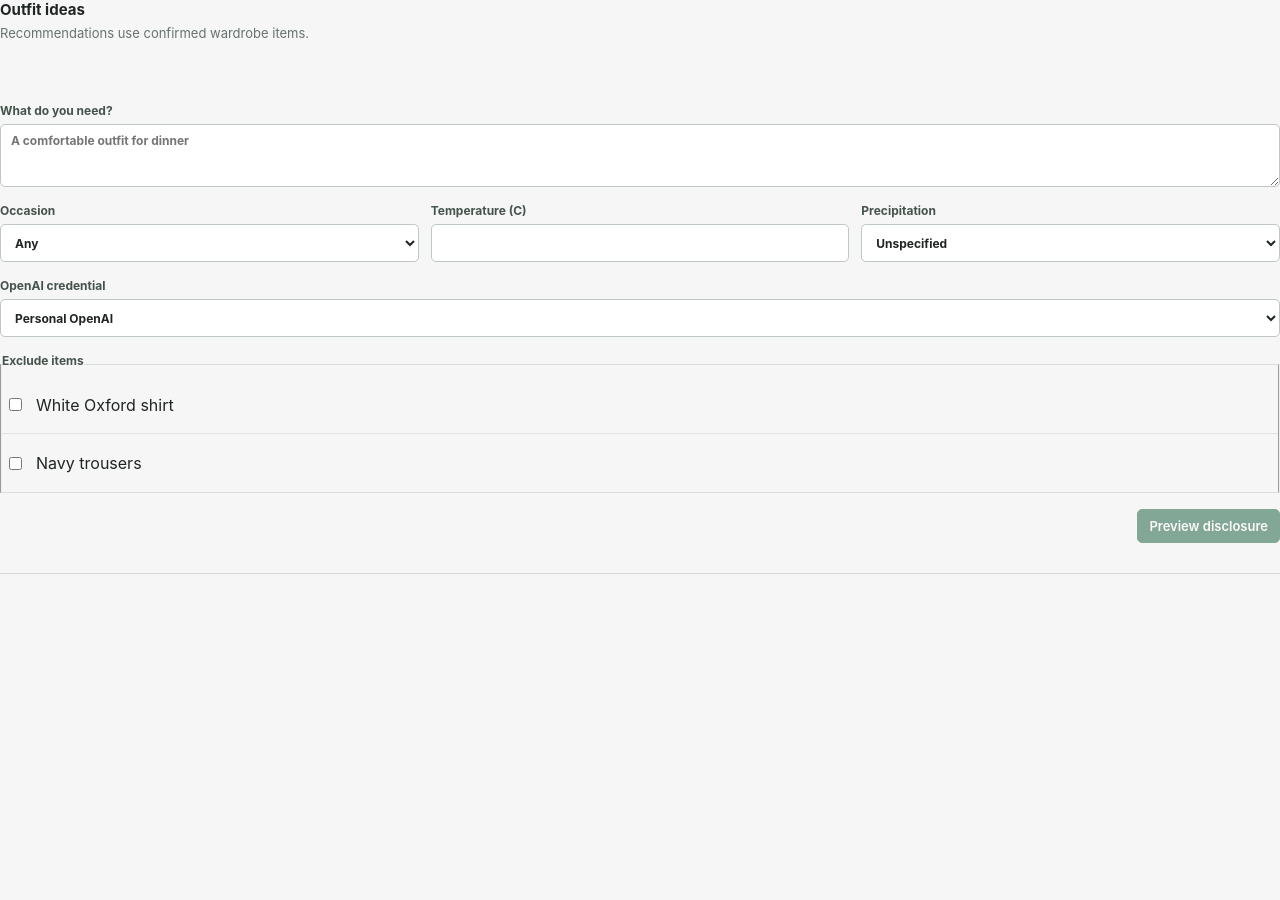
Test: outfit recommendation panel › dismisses a disclosure without sending
The width and height of the screenshot is (1280, 900).
Type "Travel day" into the text box labelled "What do you need?" at (640, 156), box [0,124,1279,187]
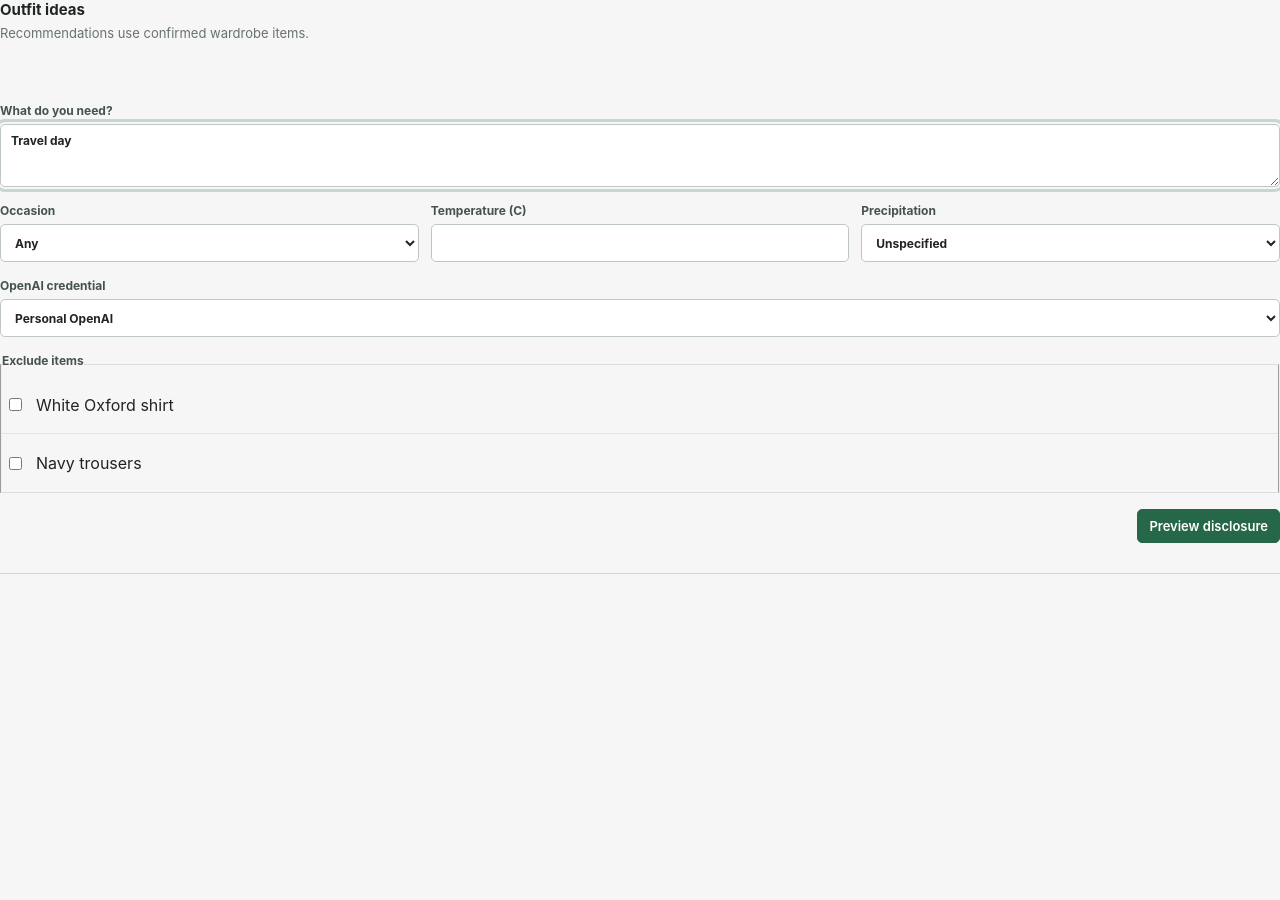
Click the button "Preview disclosure" at (1209, 526), box [1137,509,1279,543]
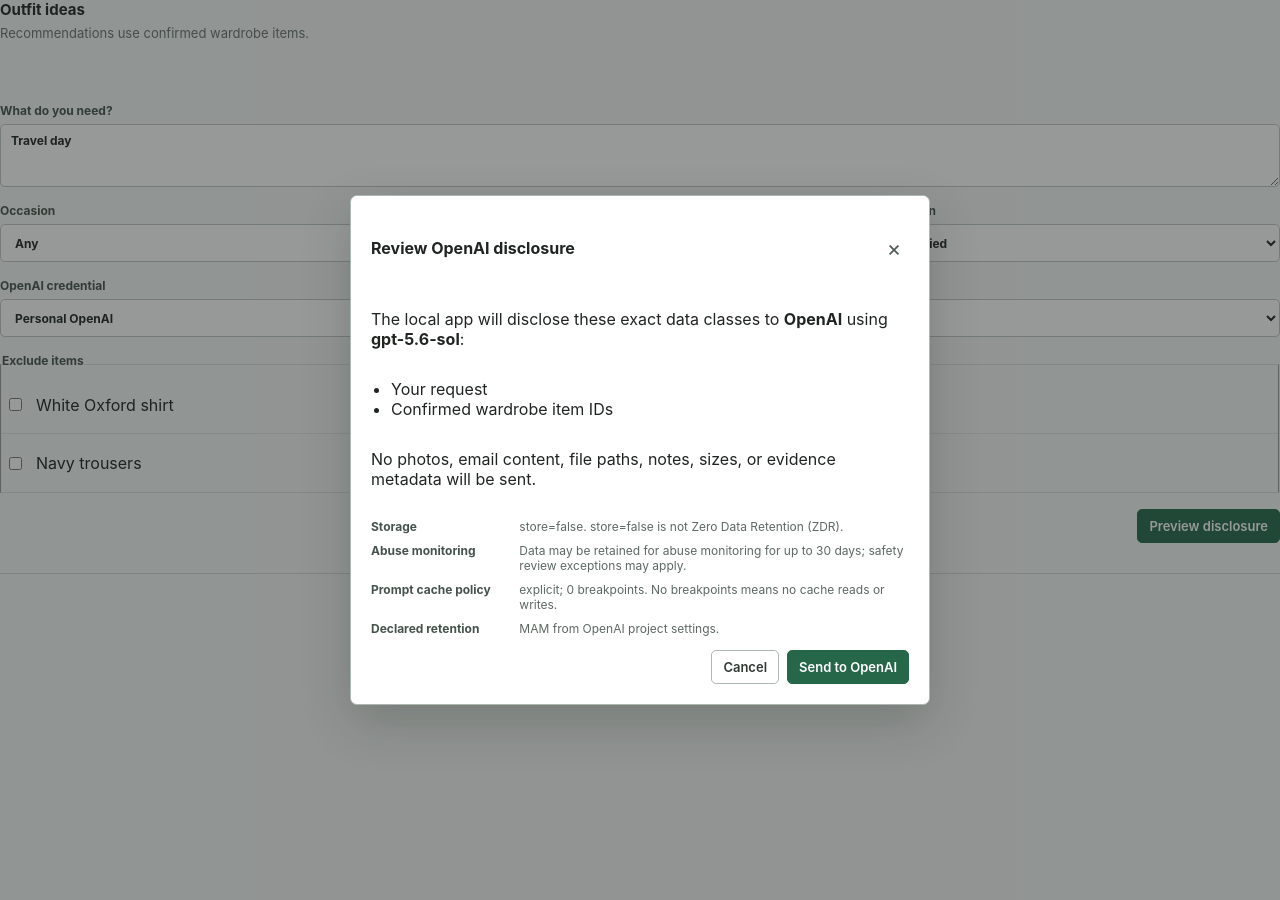
Expected: the dialog is shown, [350,195,930,705]
Click the button "Cancel" at (745, 667), box [711,650,779,684]
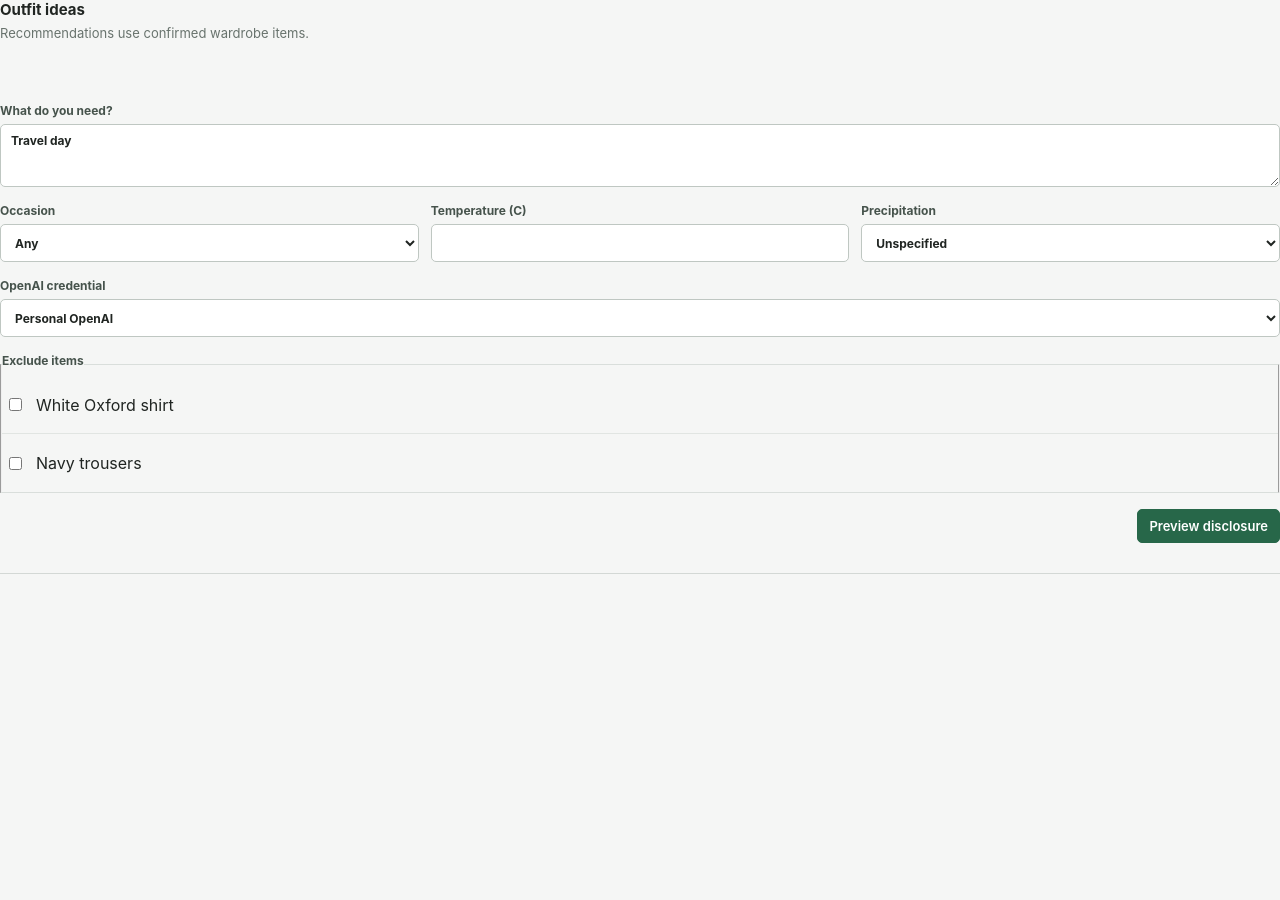
Expected: the dialog is gone
